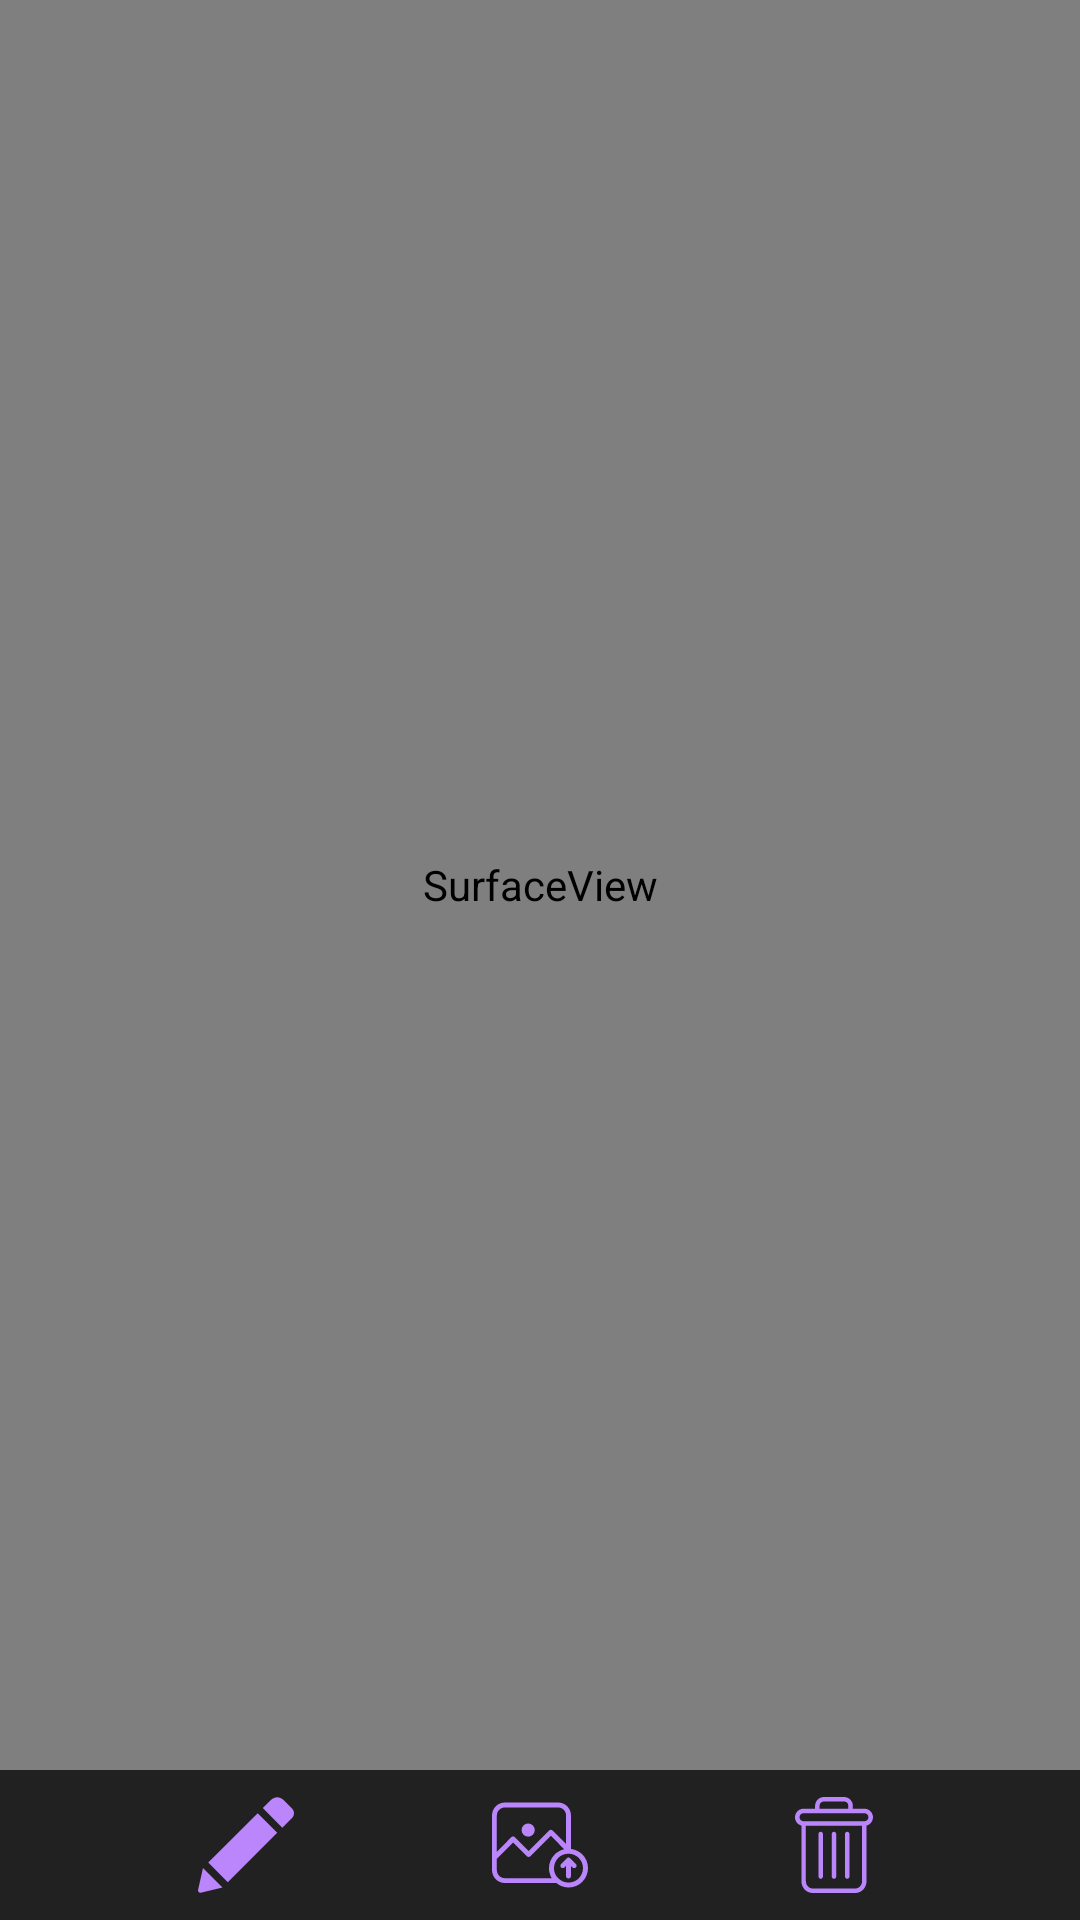

Locate icon controls on the screen. Image size 1080 x 1920, boxes as {"left": x1, "top": y1, "right": x2, "bottom": y2}.
delete: {"left": 795, "top": 1797, "right": 873, "bottom": 1893}
pencil edit: {"left": 198, "top": 1797, "right": 294, "bottom": 1893}
upload: {"left": 492, "top": 1802, "right": 588, "bottom": 1888}
